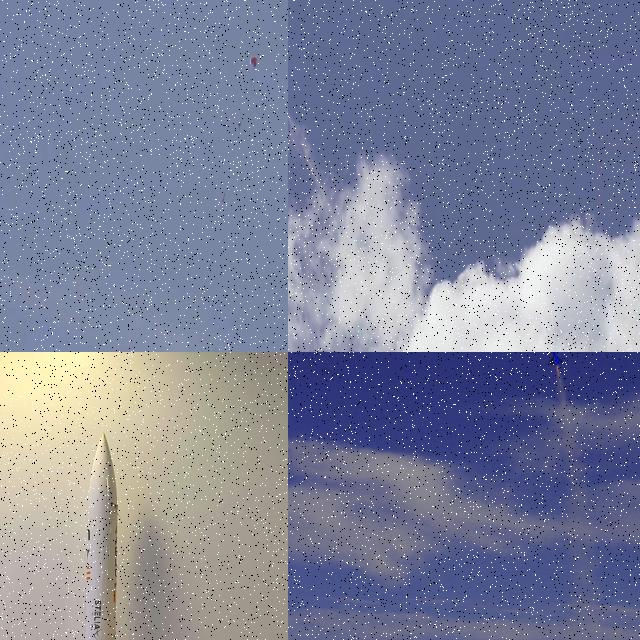Rocket: (84, 431, 118, 640), (546, 352, 564, 367), (222, 191, 226, 203), (352, 271, 355, 278)
